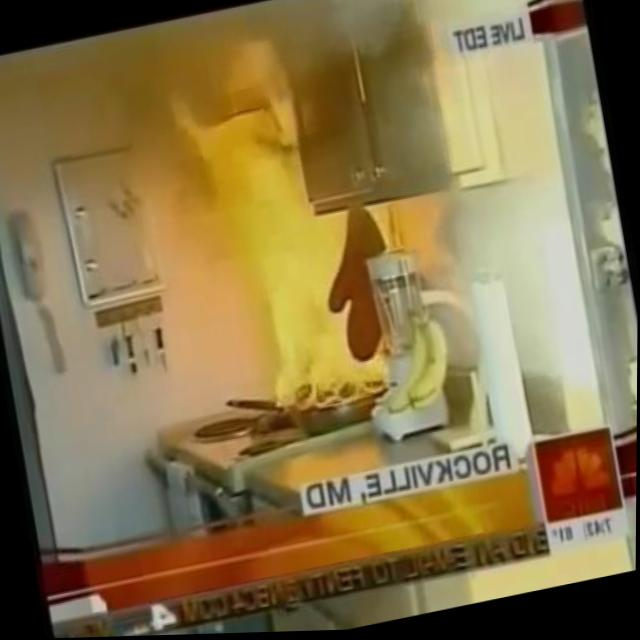fire: (164, 31, 385, 433)
